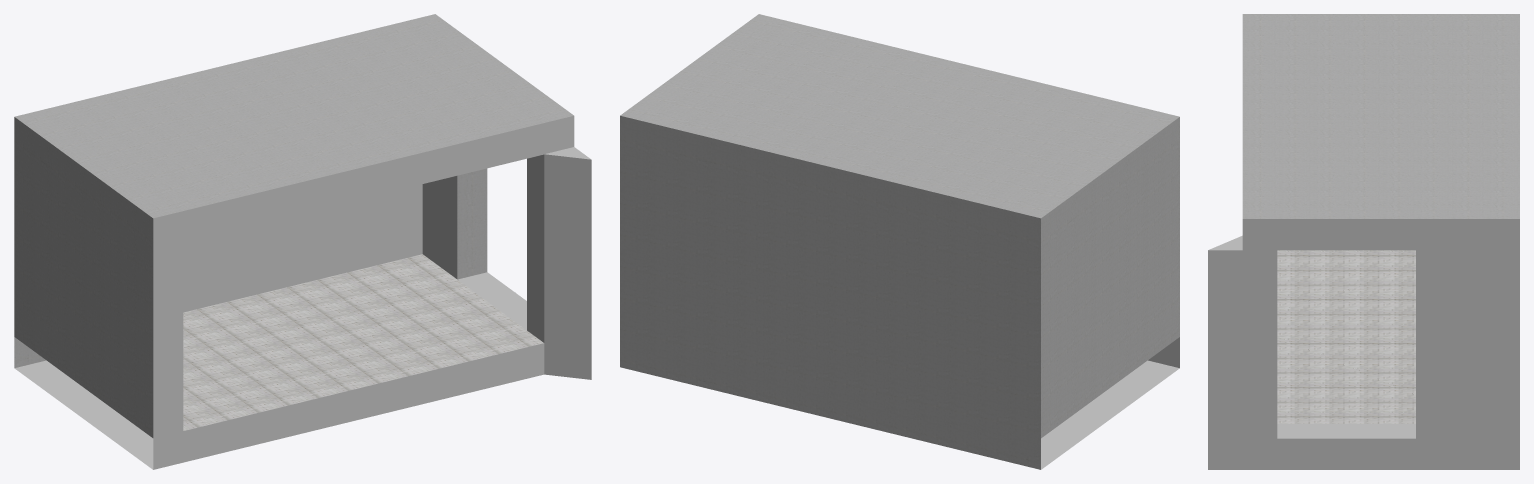
The model's file is Bathroom Structure.fbx.
3 renders of one model, left to right at view 1: azimuth 30°, elevation 25°; view 2: azimuth 150°, elevation 25°; view 3: azimuth 270°, elevation 25°, orthographic.
Visible parts, largest first — view 1: mtr_wall_2 Mesh (1), Wall Mesh (1), normalwall-2 Mesh (1), normalwall-1 Mesh (1), normalfloor-1 Mesh (1); view 2: mtr_wall_2 Mesh (1), Wall Mesh (1); view 3: mtr_wall_2 Mesh (1), normalwall-1 Mesh (1), normalwall-2 Mesh (1), Wall Mesh (1), normalfloor-1 Mesh (1).
Boxes of the visible parts, bbox=[...] form: mtr_wall_2 Mesh (1): bbox=[14, 14, 573, 437]; Wall Mesh (1): bbox=[15, 116, 591, 469]; normalwall-2 Mesh (1): bbox=[183, 254, 543, 430]; normalwall-1 Mesh (1): bbox=[183, 154, 544, 342]; normalfloor-1 Mesh (1): bbox=[457, 272, 526, 329]; mtr_wall_2 Mesh (1): bbox=[620, 14, 1179, 469]; Wall Mesh (1): bbox=[1041, 337, 1179, 469]; mtr_wall_2 Mesh (1): bbox=[1242, 14, 1519, 218]; normalwall-1 Mesh (1): bbox=[1208, 250, 1519, 469]; normalwall-2 Mesh (1): bbox=[1277, 250, 1415, 423]; Wall Mesh (1): bbox=[1208, 219, 1519, 469]; normalfloor-1 Mesh (1): bbox=[1277, 424, 1415, 438].
Size of what is drawn, in the model's own units: 14 by 7.99 by 9.
